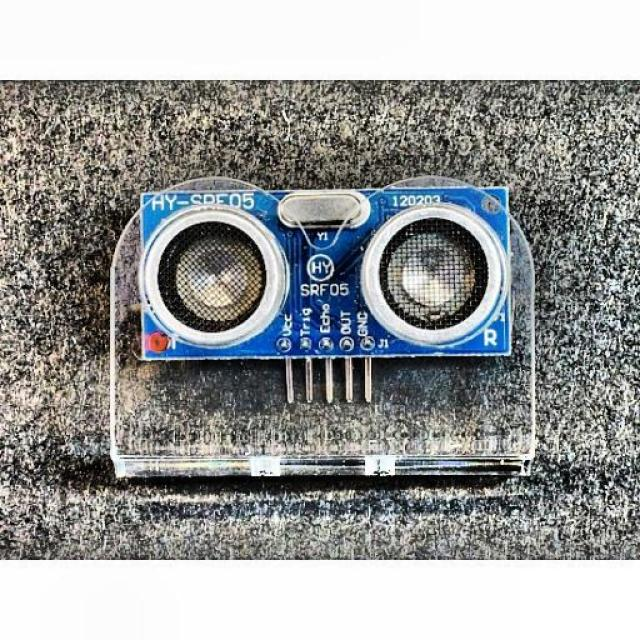Ultrasonic Sensor: (130, 171, 525, 408)
